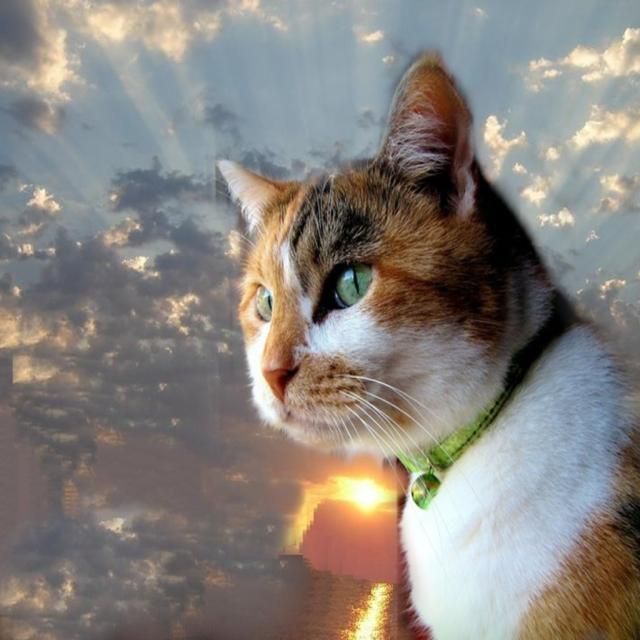Cat: (209, 43, 639, 638)
